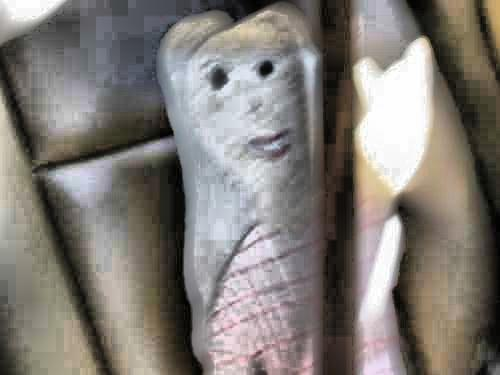seatbelt: (279, 15, 376, 350)
